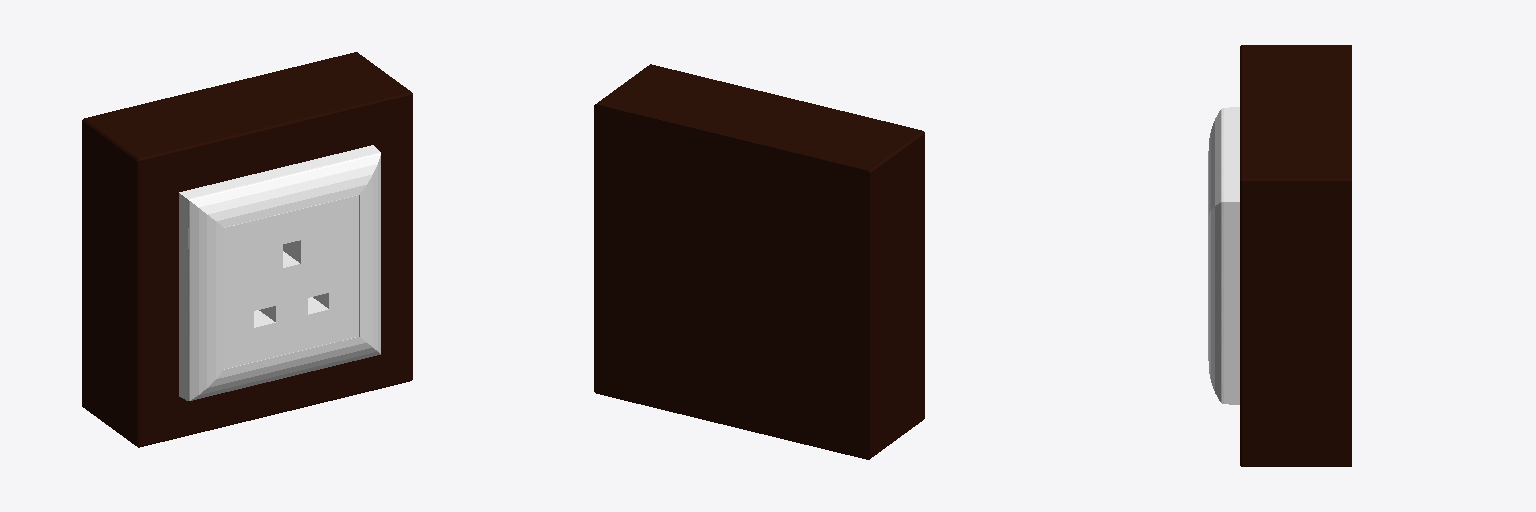
File: Socket_UK.obj
The picture shows the model from 3 angles: view 1: azimuth 30°, elevation 25°; view 2: azimuth 150°, elevation 25°; view 3: azimuth 270°, elevation 25°; orthographic projection.
Parts seen in each view (by area): view 1: Circle.001_Socket_GB, Gira_021104:Abdeckrahmen_1f_Standard_55_Reinweiß_m:516866.001_me; view 2: Circle.001_Socket_GB; view 3: Circle.001_Socket_GB, Gira_021104:Abdeckrahmen_1f_Standard_55_Reinweiß_m:516866.001_me.
Boxes of the visible parts, x1=… form: Circle.001_Socket_GB: x1=82, y1=52, x2=412, y2=447; Gira_021104:Abdeckrahmen_1f_Standard_55_Reinweiß_m:516866.001_me: x1=179, y1=145, x2=380, y2=400; Circle.001_Socket_GB: x1=594, y1=64, x2=924, y2=459; Circle.001_Socket_GB: x1=1240, y1=45, x2=1351, y2=466; Gira_021104:Abdeckrahmen_1f_Standard_55_Reinweiß_m:516866.001_me: x1=1208, y1=107, x2=1239, y2=404.
Bounding box in the file's own units: 0.1145 × 0.1145 × 0.0514.